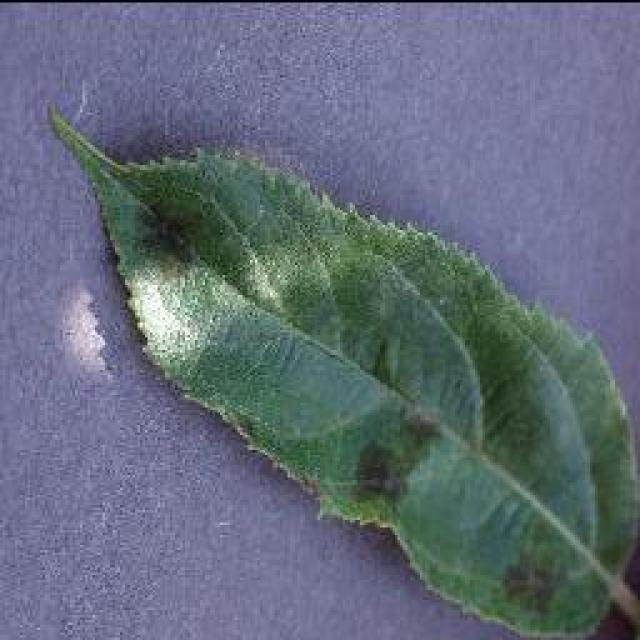Apple___Apple_scab: (41, 101, 638, 638)
